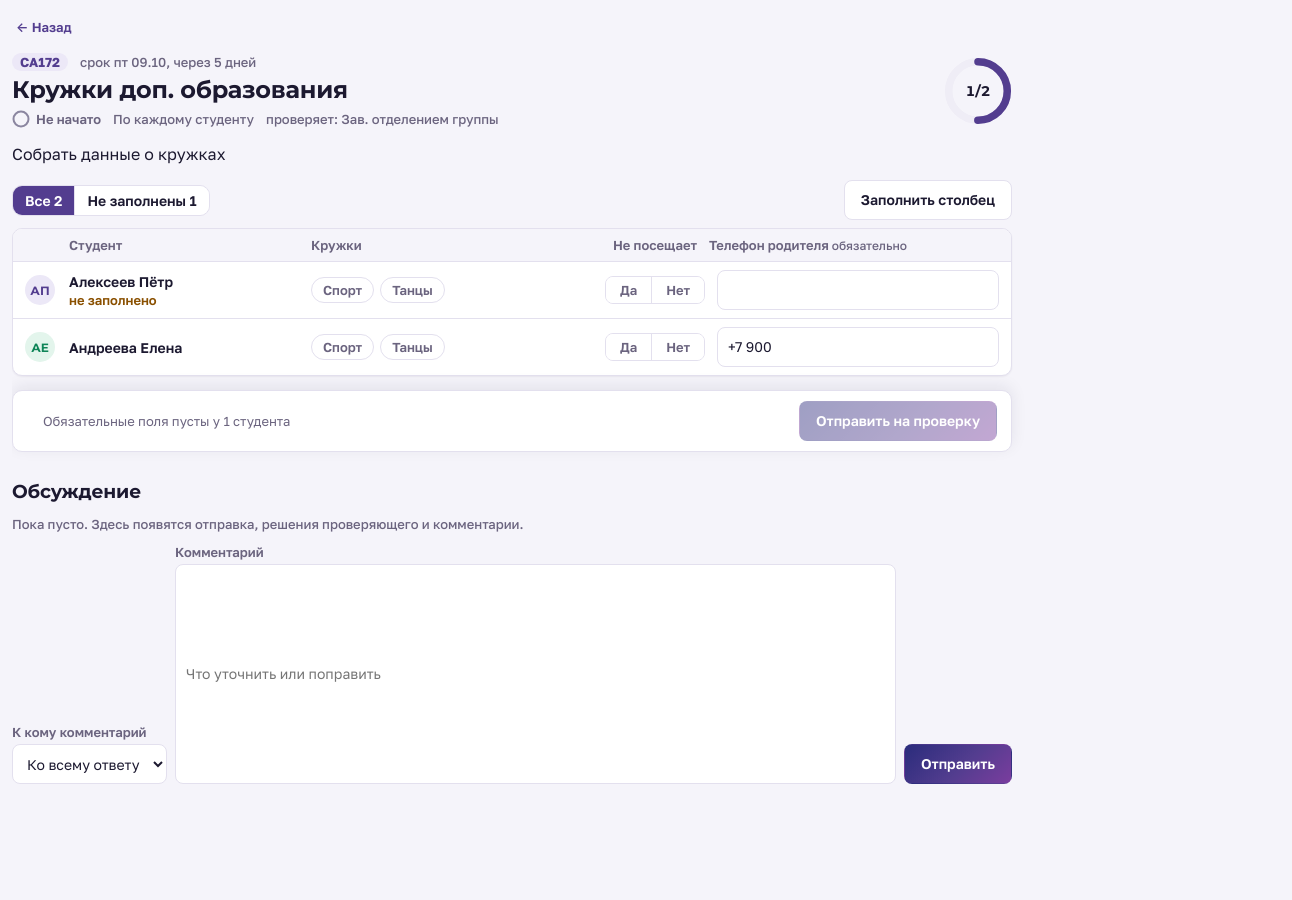
Test: TaskAssignmentPage — заполнение и автосохранение › отправка сначала дописывает черновик, потом отправляет
Expected: the text "Алексеев Пётр" is shown, 69,272 -> 173,290
Type "+7" into the field named "Телефон родителя: Алексеев Пётр".
click(858, 290); type("+7")  # box 717,270 -> 999,310
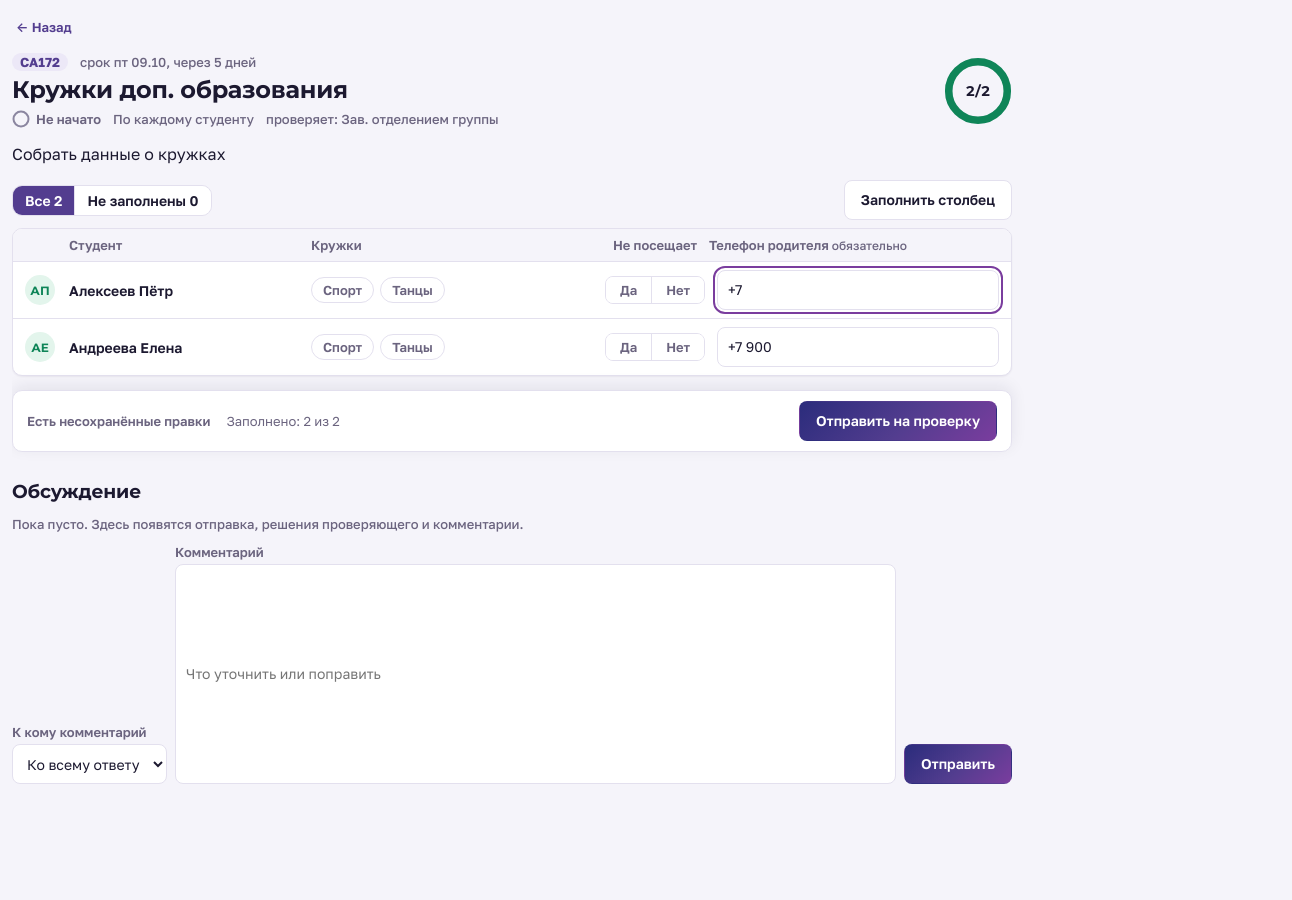
Click the button "Отправить на проверку".
click(898, 421)  # box 799,401 -> 997,441
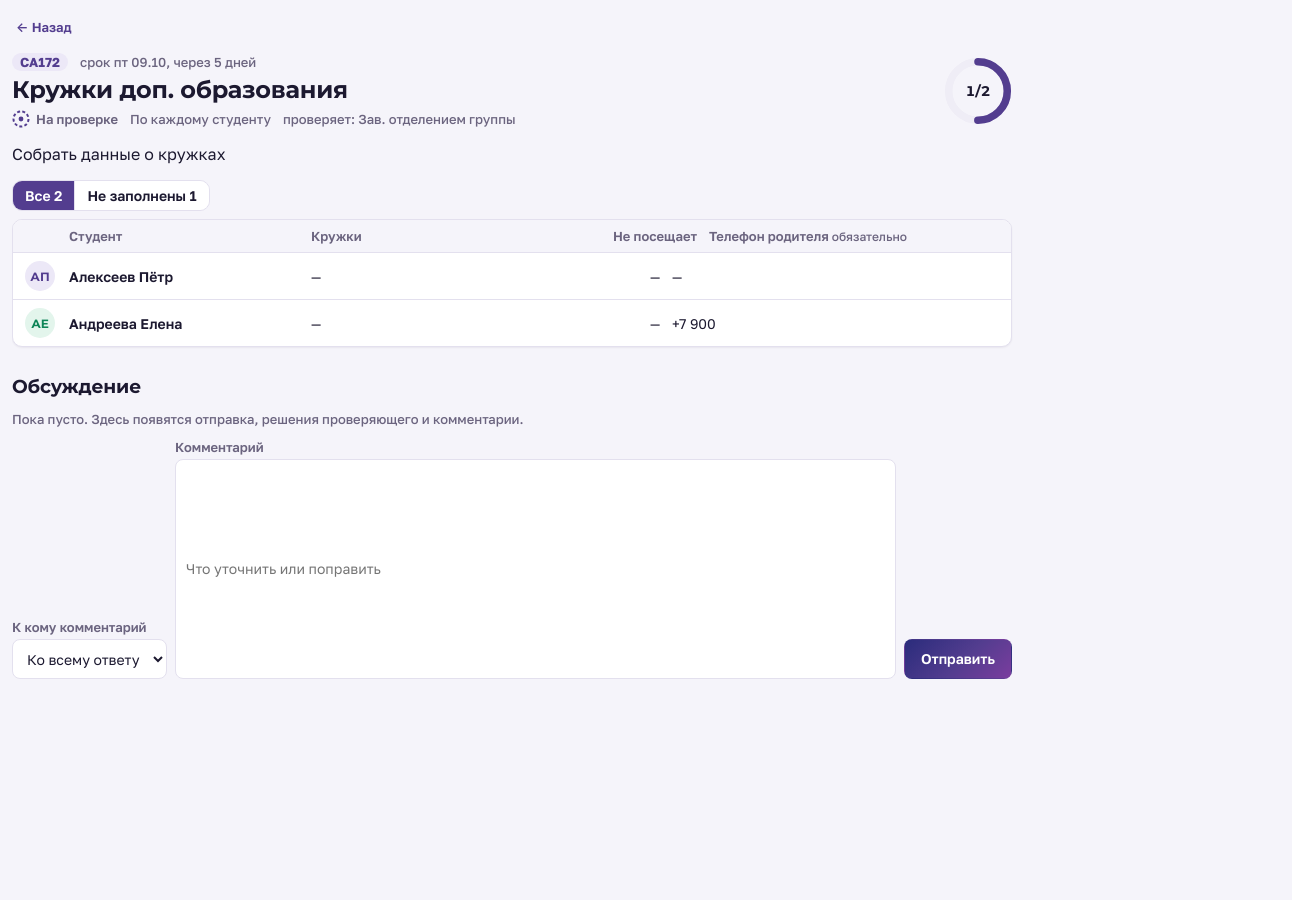
Now the text "На проверке" is shown, box 36,111 -> 118,127
Now the button "Отправить на проверку" is gone
